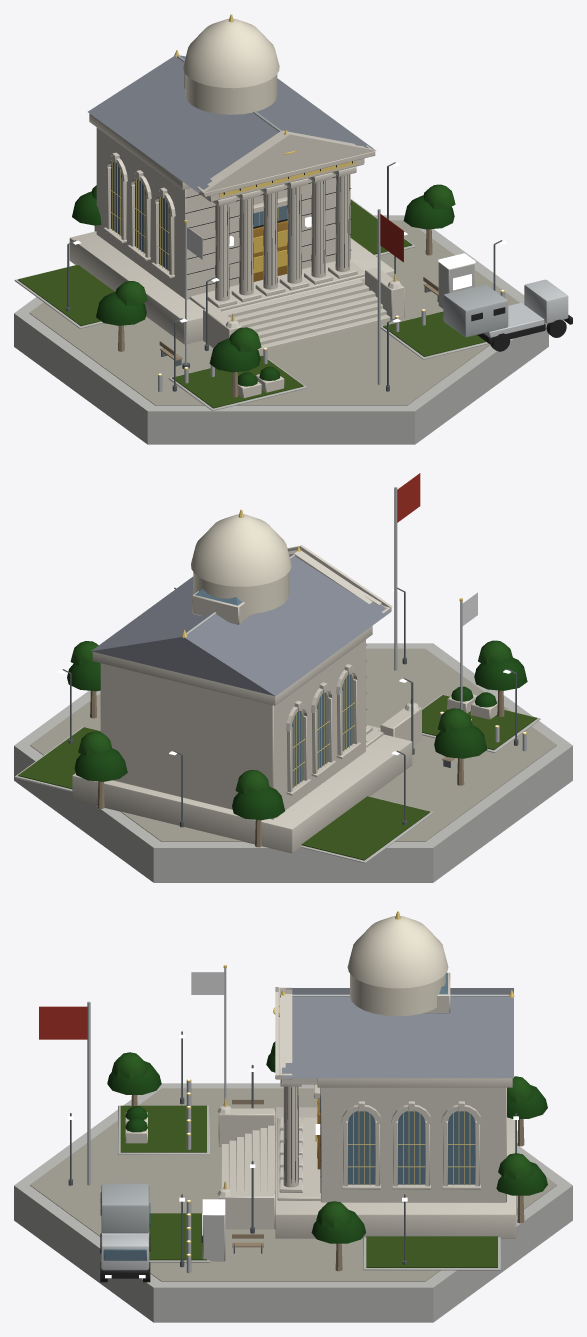
File: bank_us.glb
The picture shows the model from 3 angles, top to bottom: view 1: azimuth 30°, elevation 25°; view 2: azimuth 150°, elevation 25°; view 3: azimuth 270°, elevation 25°; orthographic projection. The views are drawn at different scales.
Parts seen in each view (by area): view 1: stone, wall_concrete, pavers, roof_slate, turf, plaster, leaf, paint, dark, gold, glass, metal (+3 smaller); view 2: stone, wall_concrete, roof_slate, pavers, leaf, turf, plaster, glass, gold, metal, steel_dark, wood (+1 smaller); view 3: stone, wall_concrete, pavers, roof_slate, turf, plaster, leaf, glass, paint, metal, gold, wood (+4 smaller).
Boxes of the visible parts, box(x1,y1,x2,y2) form: stone: box(69, 72, 404, 397); wall_concrete: box(14, 199, 548, 444); pavers: box(29, 220, 519, 405); roof_slate: box(88, 55, 373, 192); turf: box(18, 200, 485, 408); plaster: box(183, 18, 279, 114); leaf: box(72, 184, 455, 386); paint: box(380, 214, 568, 337); dark: box(185, 161, 572, 351); gold: box(109, 14, 504, 376); glass: box(111, 162, 287, 270); metal: box(158, 55, 504, 391); stone: box(72, 545, 497, 853); wall_concrete: box(14, 643, 572, 882); roof_slate: box(91, 556, 391, 696); pavers: box(30, 648, 556, 841); leaf: box(67, 640, 527, 820); turf: box(18, 695, 537, 860); plaster: box(191, 514, 291, 614); glass: box(195, 589, 353, 787); gold: box(181, 509, 527, 788); metal: box(182, 487, 526, 751); steel_dark: box(62, 587, 518, 827); wood: box(90, 690, 504, 847); stone: box(125, 972, 516, 1238); wall_concrete: box(14, 1083, 572, 1322); pavers: box(30, 1088, 556, 1281); roof_slate: box(282, 988, 513, 1078); turf: box(120, 1105, 497, 1267); plaster: box(347, 916, 448, 1016); leaf: box(107, 1041, 547, 1243); glass: box(103, 972, 475, 1260); paint: box(39, 1006, 150, 1270); metal: box(87, 968, 513, 1273); gold: box(186, 911, 514, 1256); wood: box(131, 1095, 524, 1271).
Bounding box in the file's own units: 21.3 × 15 × 24.6.
